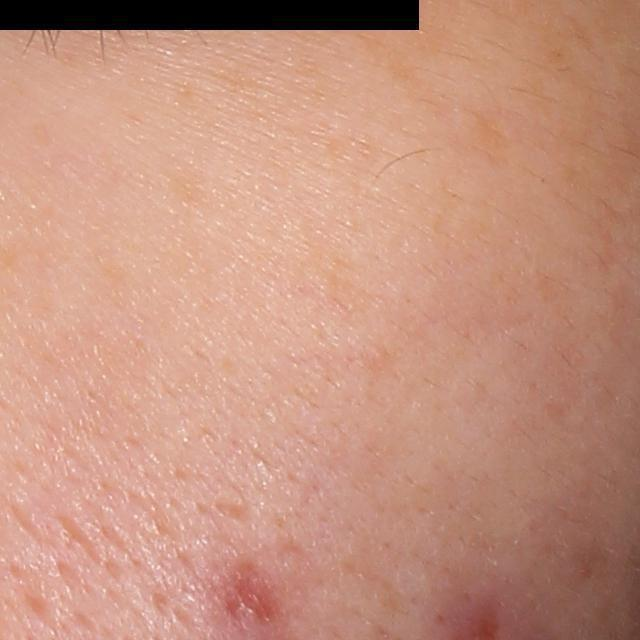atrophic_scar: (61, 517, 101, 567)
melasma: (349, 19, 454, 123), (294, 237, 368, 307), (526, 11, 603, 72), (158, 158, 210, 206), (465, 103, 508, 159)
